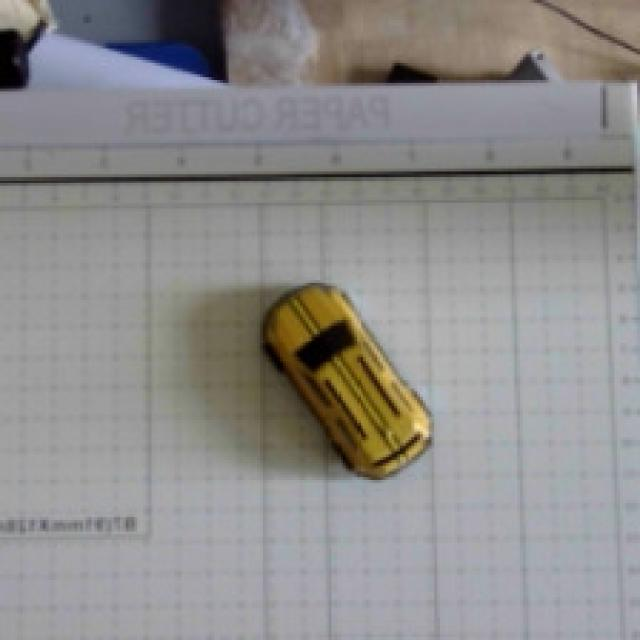Yellow Car: (227, 252, 464, 523)
